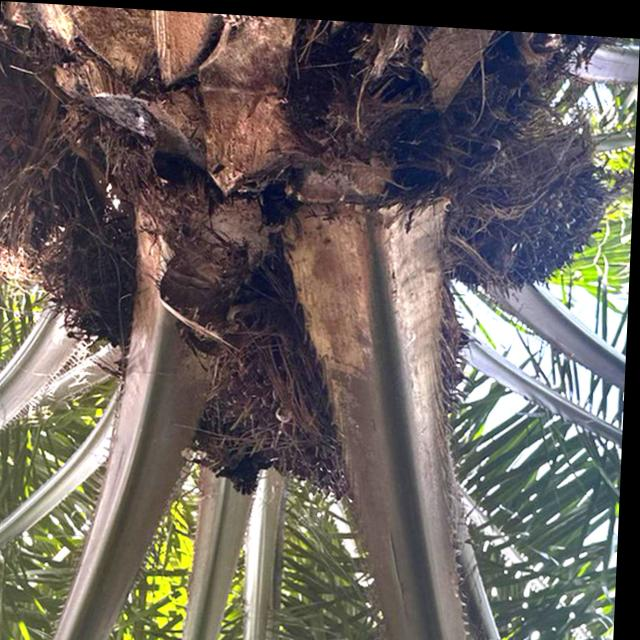ripe: (201, 284, 368, 499)
